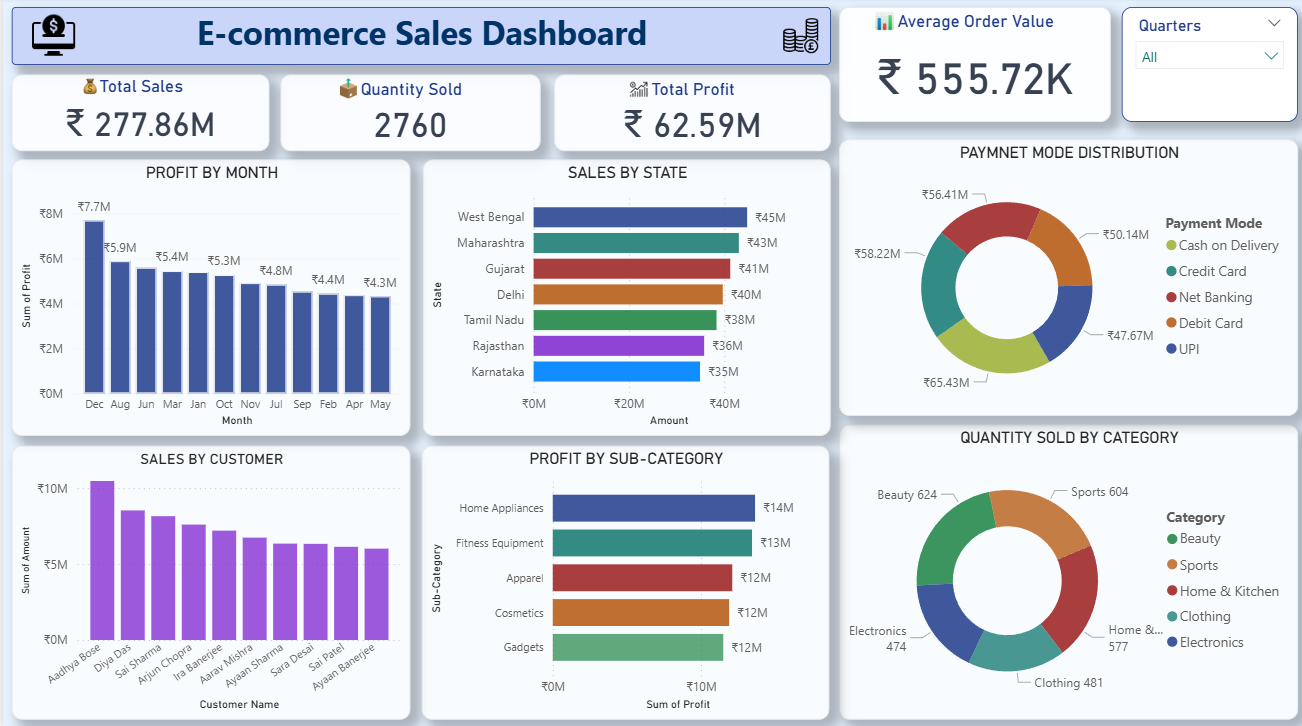

The page's visual inventory and layout, read from the dashboard file:
{"tool":"powerbi","page":{"name":"DATA_VISUALIZATION","canvas":[1280,720],"ordinal":0},"visuals":[{"type":"textbox","title":"E-commerce Sales Dashboard","box":[8.6,9.8,803.7,56.4],"z":0},{"type":"card","title":"Total Sales","fields":{"Values":["ecommerce_sales_dataset_indian.Amount"]},"box":[8.6,76.1,252.8,74.8],"z":1000},{"type":"card","title":"Quantity Sold","fields":{"Values":["ecommerce_sales_dataset_indian.Quantity Sold"]},"box":[272.4,76.1,255.2,74.8],"z":2000},{"type":"card","title":"Total Profit","fields":{"Values":["ecommerce_sales_dataset_indian.Profit"]},"box":[541.1,76.1,271.2,74.8],"z":3000},{"type":"card","title":"Average Order Value","fields":{"Values":["ecommerce_sales_dataset_indian.AOV_"]},"box":[820.9,9.8,266.3,112.9],"z":4000},{"type":"slicer","fields":{"Values":["ecommerce_sales_dataset_indian.Custom"]},"box":[1098.2,9.8,173,112.9],"z":5000},{"type":"clusteredColumnChart","title":"PROFIT BY MONTH","fields":{"Y":["ecommerce_sales_dataset_indian.Profit"],"Category":["ecommerce_sales_dataset_indian.Month Name"]},"box":[8.6,159.5,391.4,271.2],"z":6000},{"type":"donutChart","title":"QUANTITY SOLD BY CATEGORY","fields":{"Category":["ecommerce_sales_dataset_indian.Category"],"Y":["ecommerce_sales_dataset_indian.Quantity Sold"]},"box":[820.9,419.6,450.3,289.6],"z":7000},{"type":"barChart","title":"SALES BY STATE","fields":{"Category":["ecommerce_sales_dataset_indian.State"],"Y":["ecommerce_sales_dataset_indian.Amount"]},"box":[412.3,159.5,400,271.2],"z":8000},{"type":"donutChart","title":"PAYMNET MODE DISTRIBUTION","fields":{"Category":["ecommerce_sales_dataset_indian.Payment Mode"],"Y":["ecommerce_sales_dataset_indian.Amount"]},"box":[820.9,139.9,450.3,271.2],"z":9000},{"type":"columnChart","title":"SALES BY CUSTOMER","fields":{"Category":["ecommerce_sales_dataset_indian.Customer Name"],"Y":["ecommerce_sales_dataset_indian.Amount"]},"box":[8.6,440.5,391.4,268.7],"z":10000},{"type":"barChart","title":"PROFIT BY SUB-CATEGORY","fields":{"Category":["ecommerce_sales_dataset_indian.Sub-Category"],"Y":["ecommerce_sales_dataset_indian.Profit"]},"box":[411,440.5,400,268.7],"z":11000},{"type":"image","box":[22.1,9.8,55.2,55.2],"z":12000},{"type":"image","box":[754.6,16,56.4,44.2],"z":13000},{"type":"image","box":[603,76.1,42.9,29],"z":14000},{"type":"image","box":[70,74,30.7,28.2],"z":15000},{"type":"image","box":[318,75,41.7,30],"z":16000},{"type":"image","box":[848,5,35.6,36],"z":16001}]}

Visuals, with their boxes in screenshot pixels (x1, y1, x2, y2), scaled from the page's 1280x720 canvas onto the 1302x726 screenshot:
"E-commerce Sales Dashboard" textbox: BBox(9, 10, 826, 67)
"Total Sales" card: BBox(9, 77, 266, 152)
"Quantity Sold" card: BBox(277, 77, 537, 152)
"Total Profit" card: BBox(550, 77, 826, 152)
"Average Order Value" card: BBox(835, 10, 1106, 124)
slicer - ecommerce_sales_dataset_indian.Custom: BBox(1117, 10, 1293, 124)
"PROFIT BY MONTH" clusteredColumnChart: BBox(9, 161, 407, 434)
"QUANTITY SOLD BY CATEGORY" donutChart: BBox(835, 423, 1293, 715)
"SALES BY STATE" barChart: BBox(419, 161, 826, 434)
"PAYMNET MODE DISTRIBUTION" donutChart: BBox(835, 141, 1293, 415)
"SALES BY CUSTOMER" columnChart: BBox(9, 444, 407, 715)
"PROFIT BY SUB-CATEGORY" barChart: BBox(418, 444, 825, 715)
image: BBox(22, 10, 79, 66)
image: BBox(768, 16, 825, 61)
image: BBox(613, 77, 657, 106)
image: BBox(71, 75, 102, 103)
image: BBox(323, 76, 366, 106)
image: BBox(863, 5, 899, 41)
